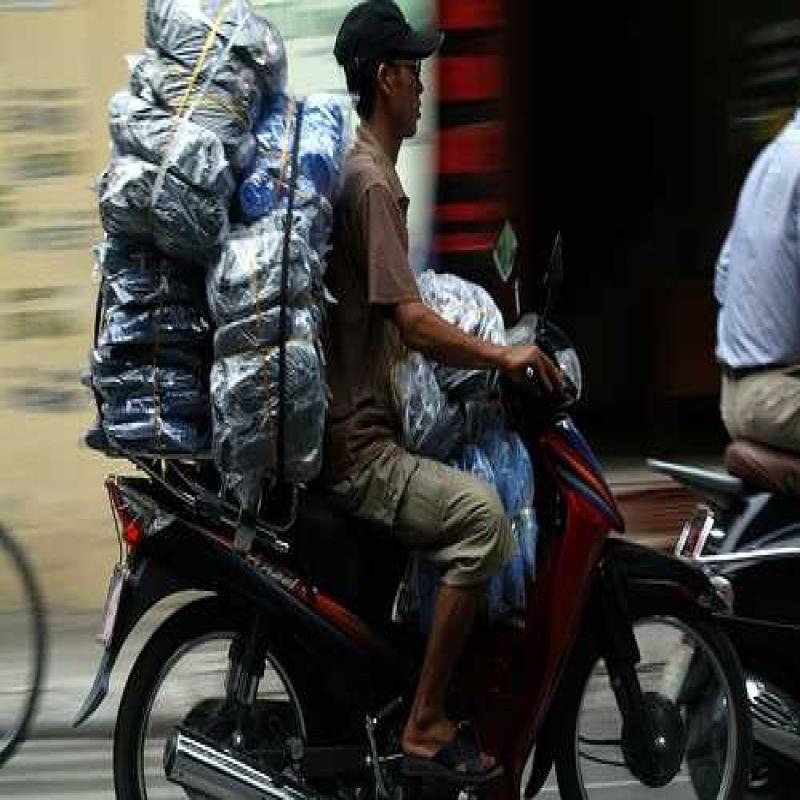bike: (133, 247, 744, 800)
